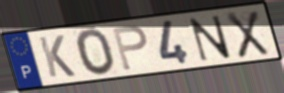4: (158, 18, 193, 66)
K: (36, 34, 78, 79)
N: (188, 14, 233, 63)
O: (74, 27, 118, 78)
P: (110, 24, 149, 72)
X: (224, 9, 271, 60)
